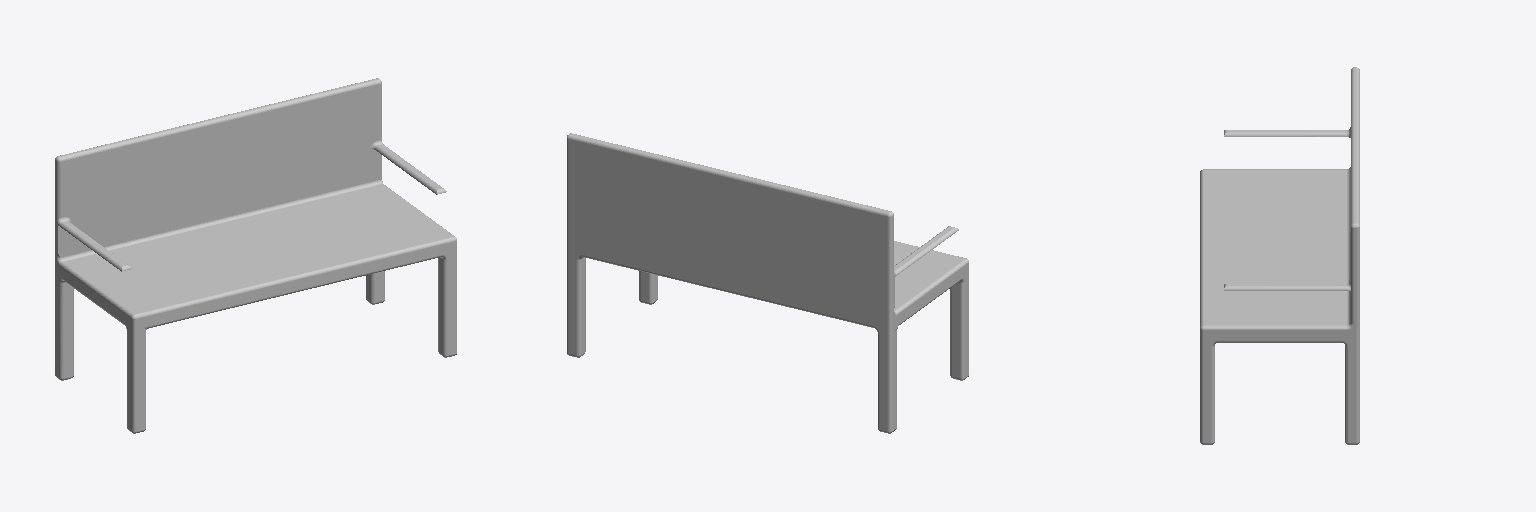
The model's file is Bench.obj.
3 views of the same model, side by side, from view 1: azimuth 30°, elevation 25°; view 2: azimuth 150°, elevation 25°; view 3: azimuth 270°, elevation 25° (orthographic).
Parts seen in each view (by area): view 1: Object.1; view 2: Object.1; view 3: Object.1.
Part boxes in pixels (x1,y1,x2,y2): Object.1: (55,78,456,433); Object.1: (567,133,968,433); Object.1: (1200,67,1359,444).
Bounding box in the file's own units: 255 × 165 × 108.